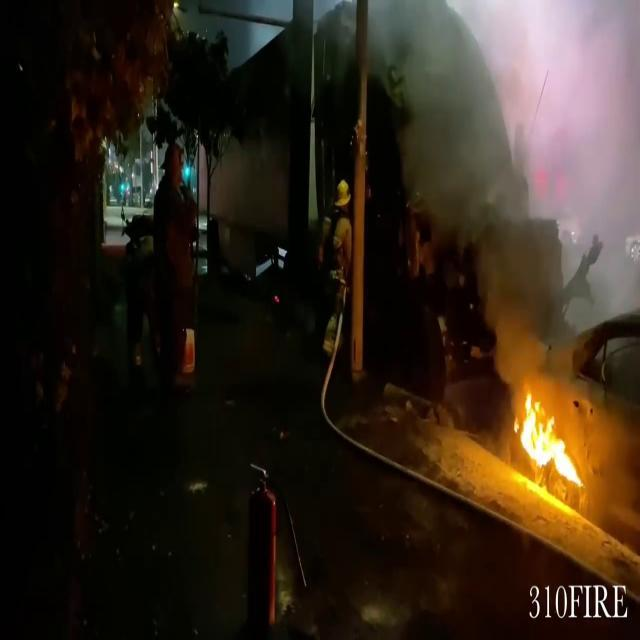Fire: (516, 384, 586, 486)
Smoke: (378, 0, 640, 327)
